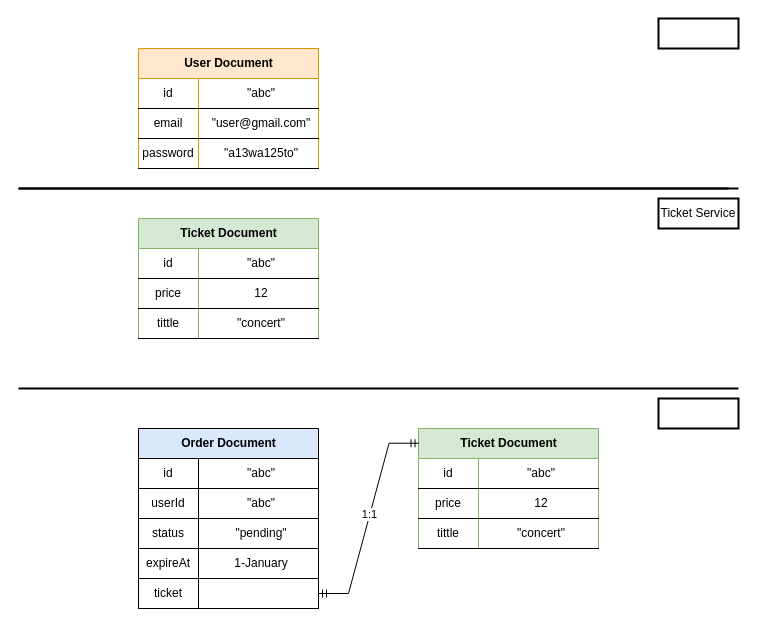
Some shapes in this 757 by 626 pixel diagram are drawn without their labels. The centre of each missing label's shape, as x and y in pixels:
Auth Service: (x=698, y=33)
Order Service: (x=698, y=413)
